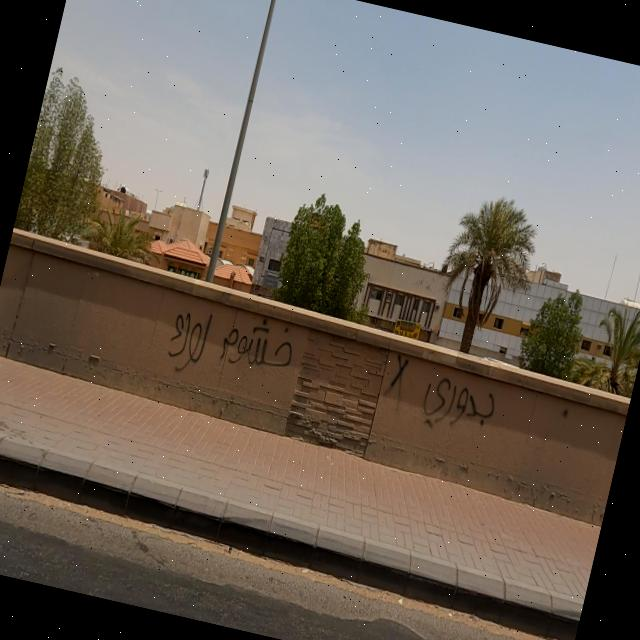Graffiti: (158, 296, 298, 396), (377, 353, 502, 443)
